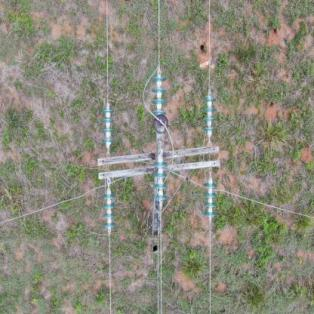Poste: (148, 156, 165, 240)
